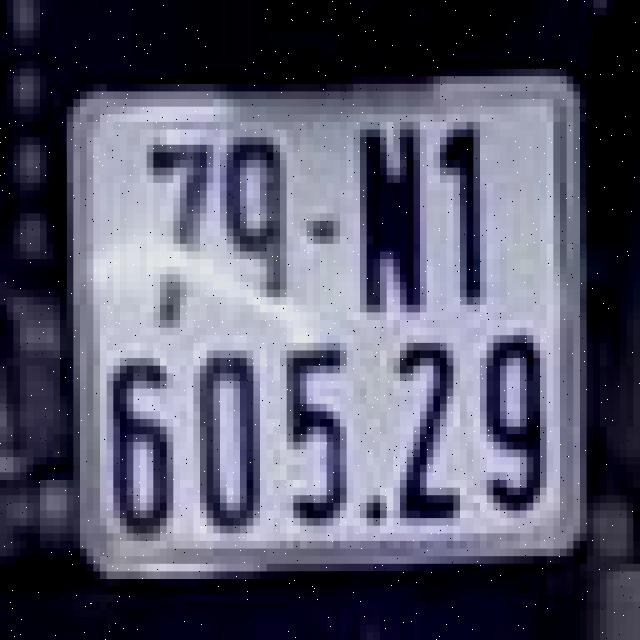0: (186, 350, 266, 541)
1: (433, 115, 500, 312)
2: (390, 339, 470, 530)
5: (276, 339, 356, 530)
6: (104, 346, 184, 544)
7: (140, 137, 220, 335)
9: (223, 134, 297, 332), (480, 328, 553, 518)
N: (354, 118, 434, 316)
